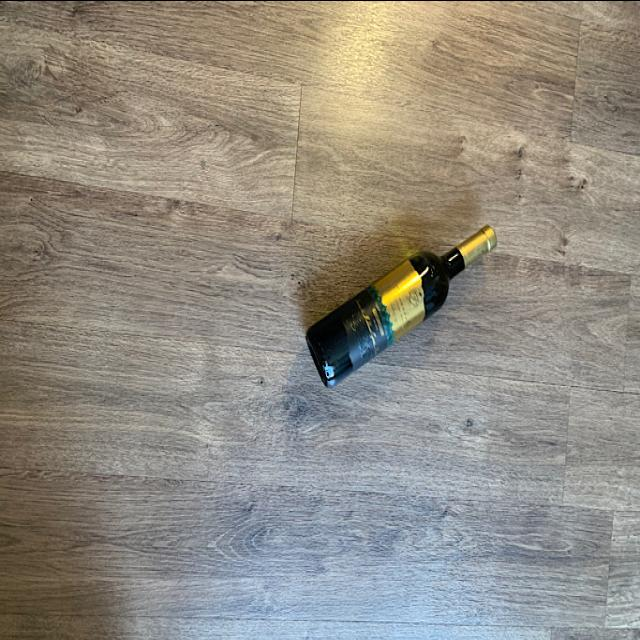litter: (304, 212, 498, 392)
